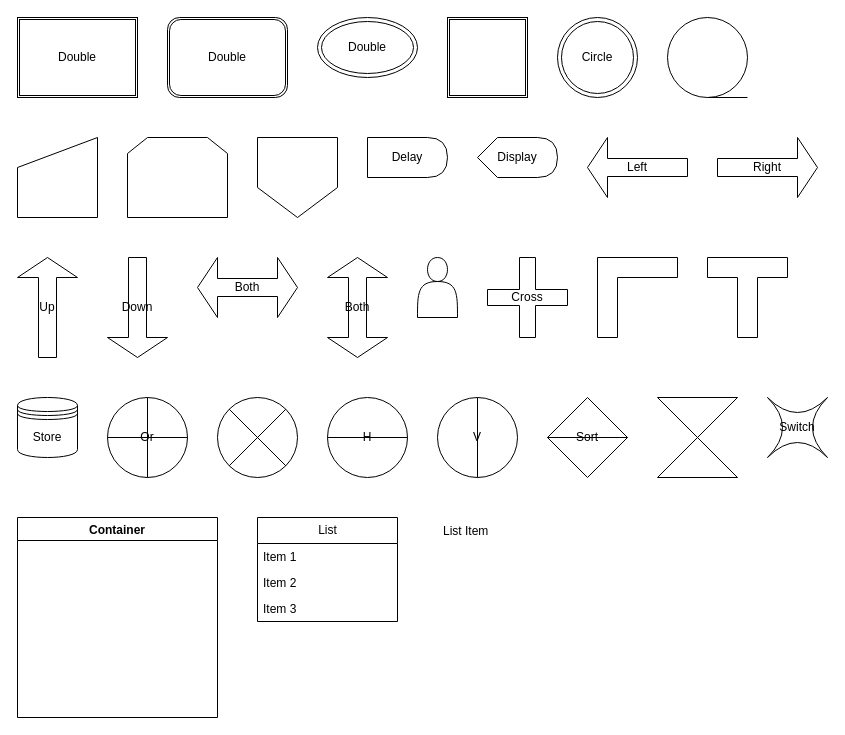
Some shapes in this 845 by 735 pixel diagram are drawn without their labels. The shapes that lost their labels are listed below. From the top down, each one's centre as x and y in pixels, then its label:
At [487,57]: "Square".
At [707,57]: "Tape".
At [57,177]: "Input".
At [177,177]: "Loop".
At [297,177]: "Off".
At [437,287]: "User".
At [637,297]: "Corner".
At [747,297]: "Tee".
At [257,437]: "Sum".
At [697,437]: "Collate".
